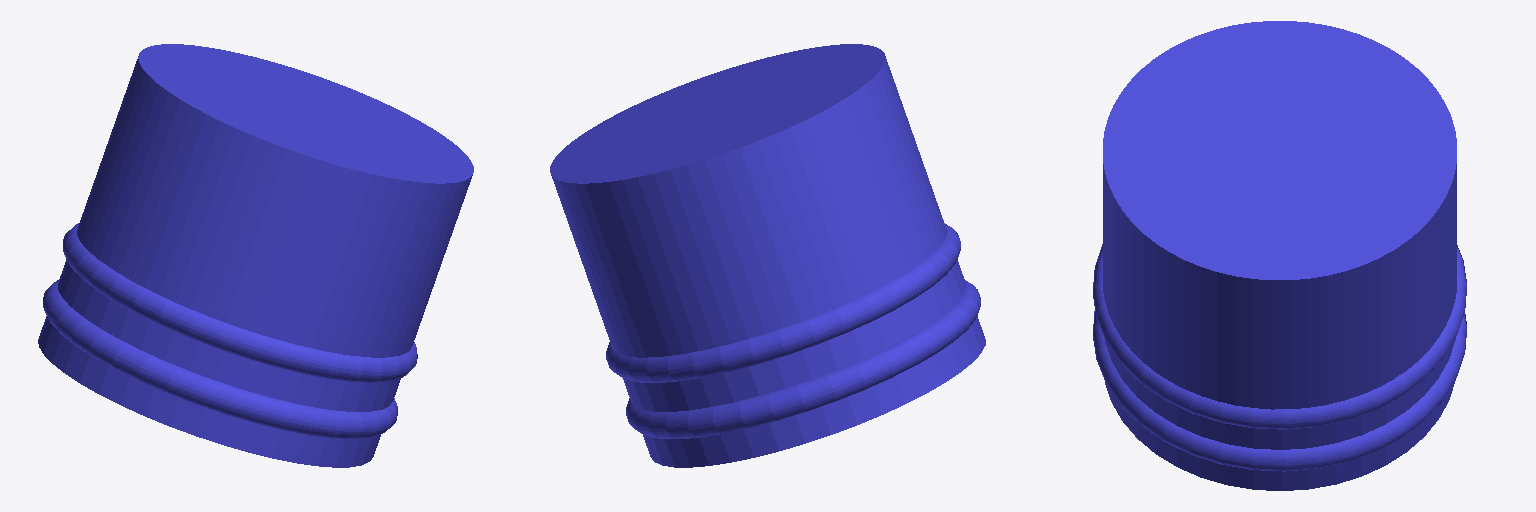
The model's file is bombilla96.obj.
The picture shows the model from 3 angles: view 1: azimuth 30°, elevation 25°; view 2: azimuth 150°, elevation 25°; view 3: azimuth 270°, elevation 25°; orthographic projection.
Parts seen in each view (by area): view 1: Cylinder001, Cylinder003, Cylinder004, Cylinder006, Cylinder002; view 2: Cylinder001, Cylinder003, Cylinder004, Cylinder006, Cylinder002; view 3: Cylinder001, Cylinder004, Cylinder002, Cylinder003, Cylinder006.
Boxes of the visible parts, x1=… form: Cylinder001: x1=77, y1=44, x2=473, y2=357; Cylinder003: x1=58, y1=259, x2=400, y2=411; Cylinder004: x1=43, y1=280, x2=397, y2=439; Cylinder006: x1=38, y1=316, x2=380, y2=467; Cylinder002: x1=63, y1=223, x2=417, y2=382; Cylinder001: x1=550, y1=44, x2=946, y2=357; Cylinder003: x1=623, y1=260, x2=965, y2=411; Cylinder004: x1=626, y1=280, x2=980, y2=438; Cylinder006: x1=643, y1=316, x2=985, y2=467; Cylinder002: x1=606, y1=224, x2=960, y2=382; Cylinder001: x1=1103, y1=21, x2=1456, y2=409; Cylinder004: x1=1093, y1=311, x2=1466, y2=471; Cylinder002: x1=1093, y1=244, x2=1466, y2=429; Cylinder003: x1=1104, y1=338, x2=1455, y2=449; Cylinder006: x1=1105, y1=379, x2=1455, y2=490.
Size of the model in its own units: 85.76 by 80.87 by 72.21.